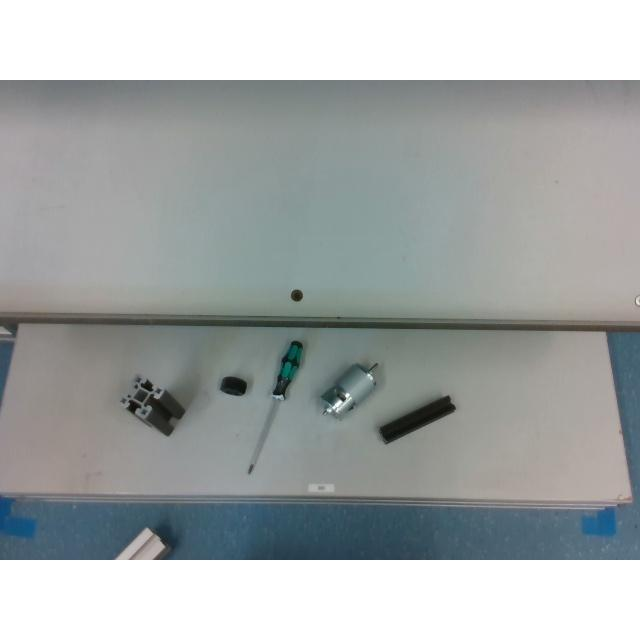F20_20_B: (379, 396, 455, 444)
M20: (220, 376, 247, 396)
Motor2: (321, 364, 377, 416)
S40_40_B: (120, 374, 184, 434)
Screwdriver: (247, 340, 303, 474)
